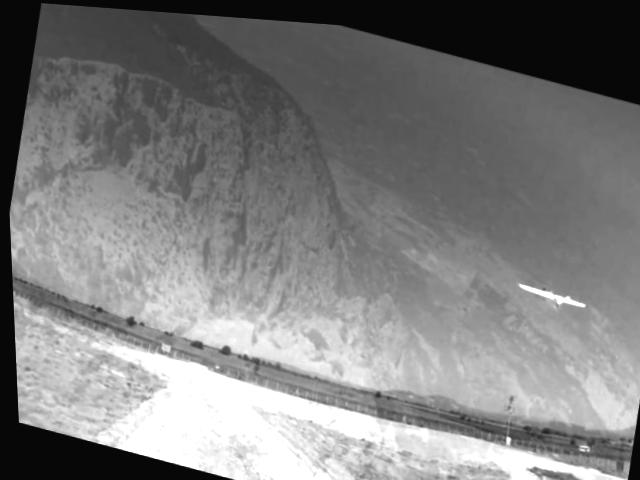hedef: (501, 259, 597, 322)
